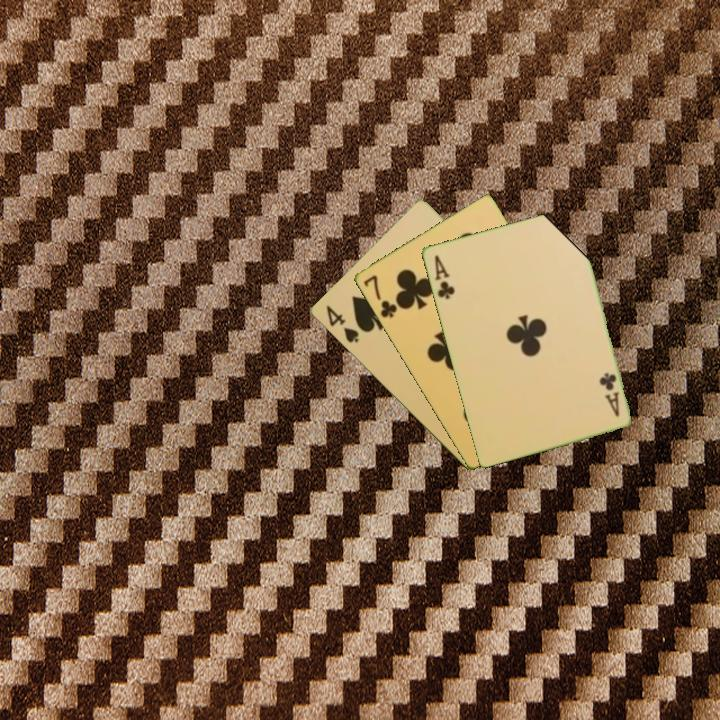4s: (322, 301, 361, 345)
7c: (360, 271, 400, 321)
Ac: (430, 251, 457, 302), (595, 369, 622, 419)
